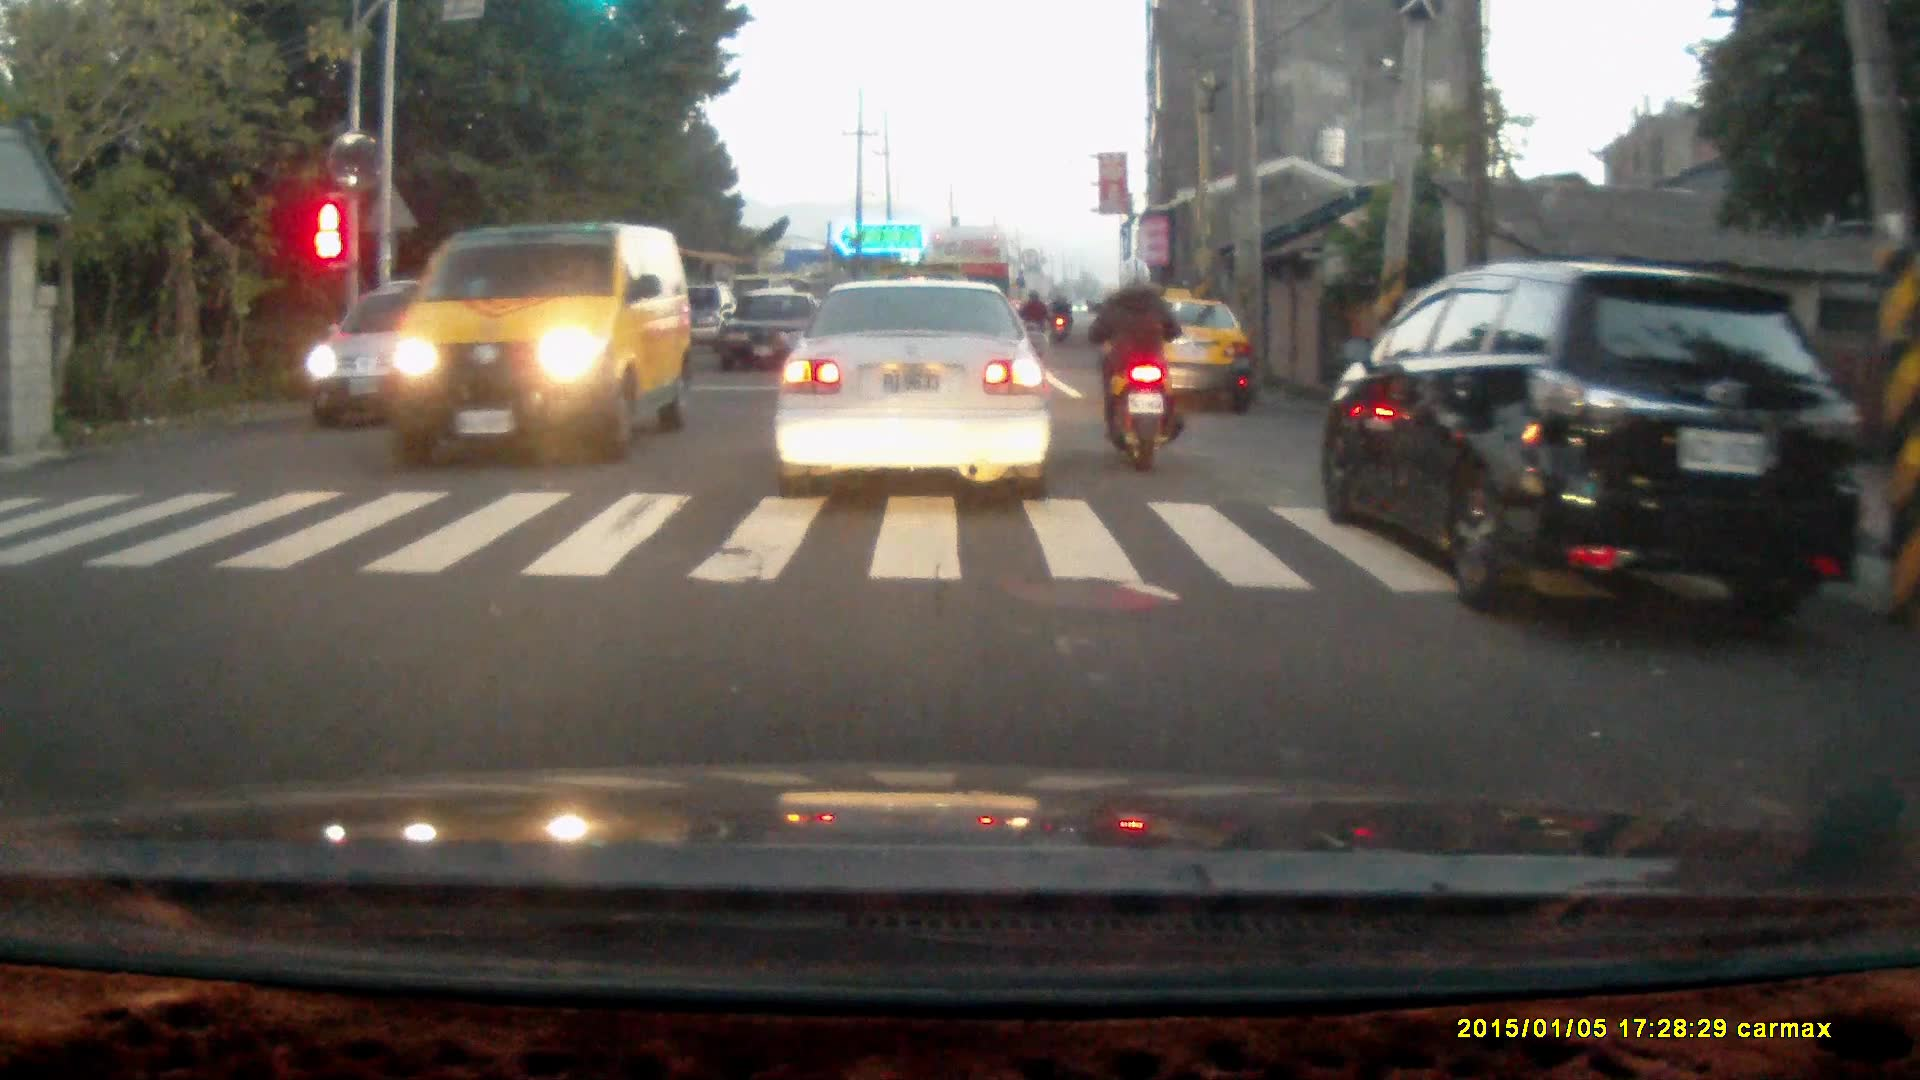rider: (1082, 251, 1180, 467)
vehicle: (1321, 255, 1868, 640), (388, 219, 690, 463), (773, 271, 1056, 498), (299, 276, 500, 420), (1105, 290, 1255, 416), (917, 218, 1019, 356), (720, 284, 822, 375)
